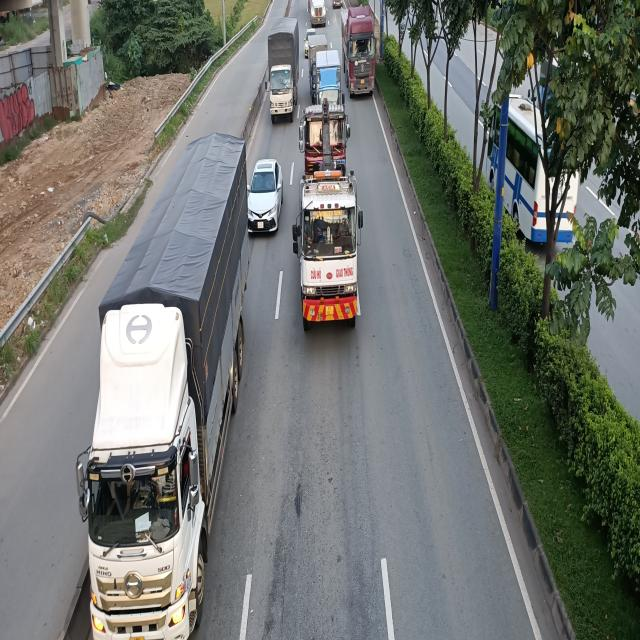car: (246, 160, 284, 241)
container: (342, 8, 378, 97), (309, 0, 328, 27)
truck: (75, 135, 246, 640), (294, 169, 364, 329), (266, 19, 300, 125)
